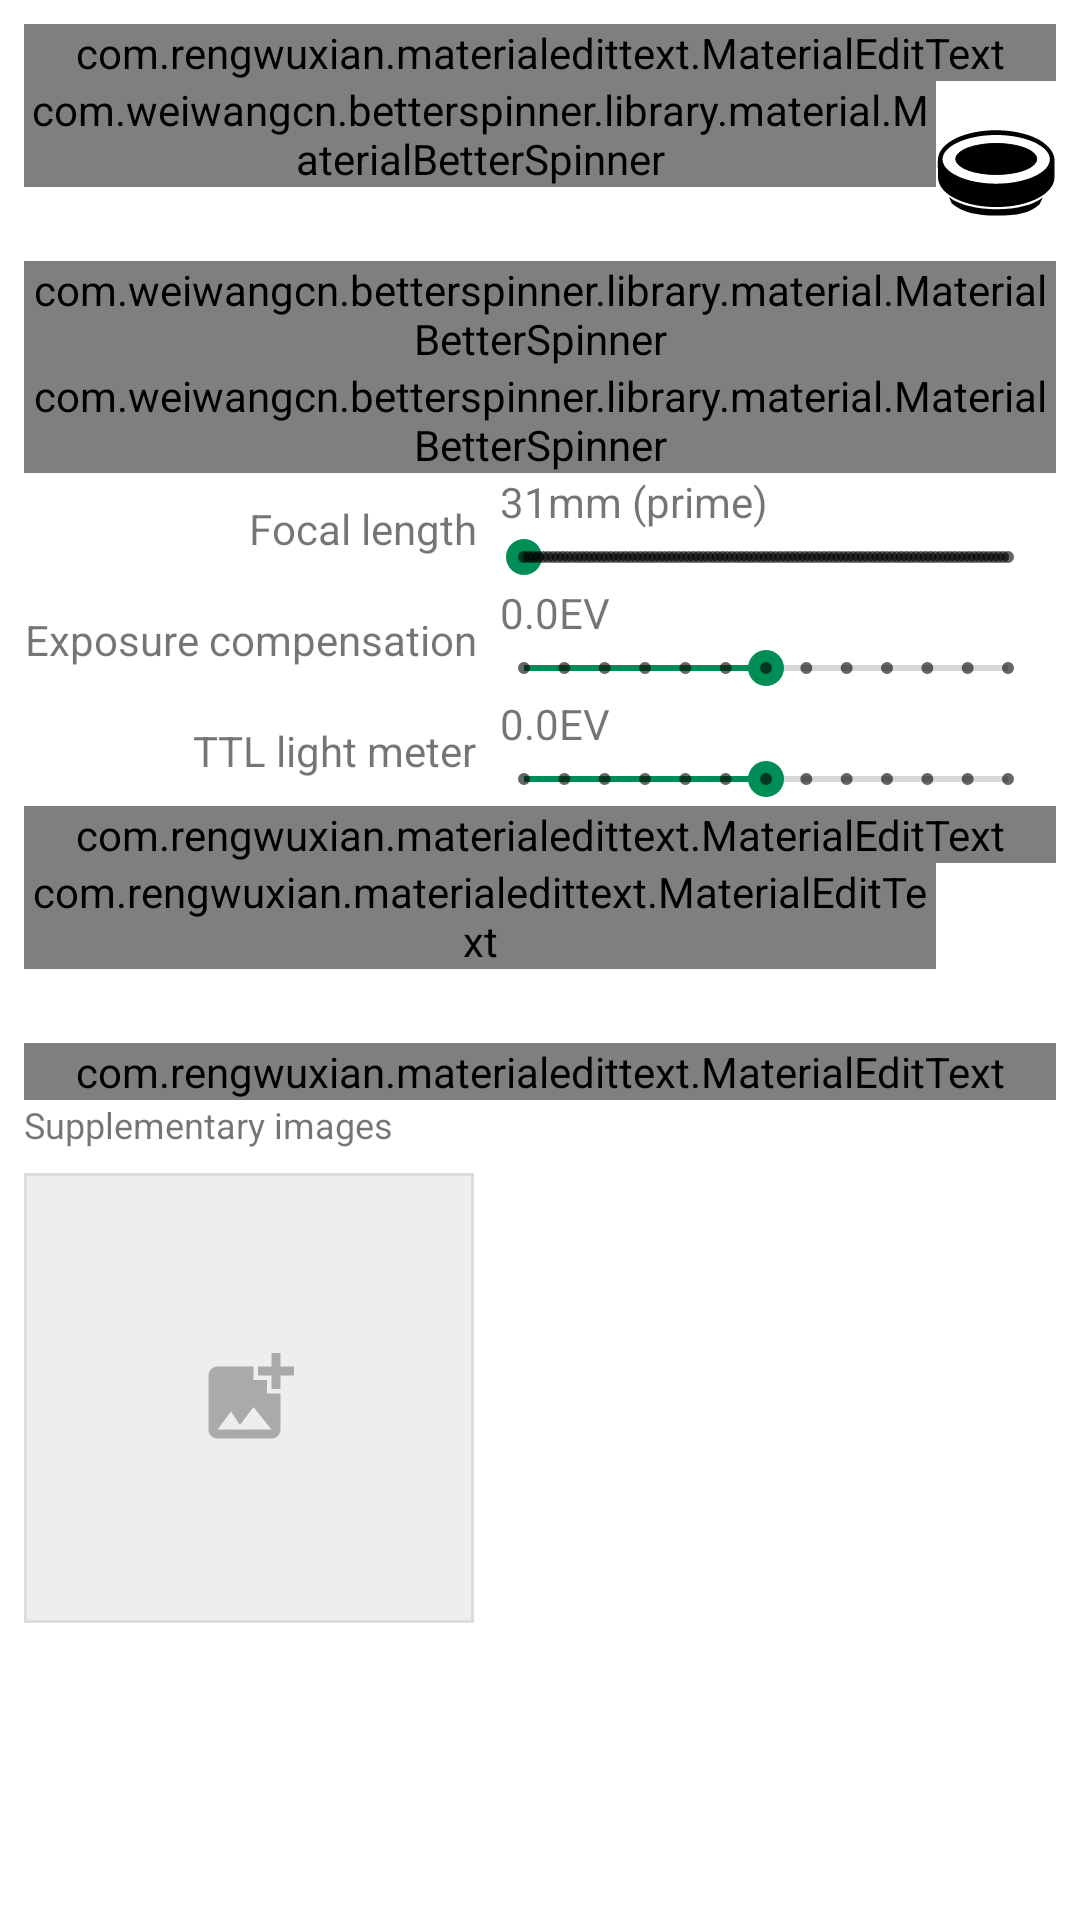

Icons on this 1080px x 1920px Android screen, each with the point to tap as (x=x, y=y):
mount adapter plane: (x=996, y=173)
